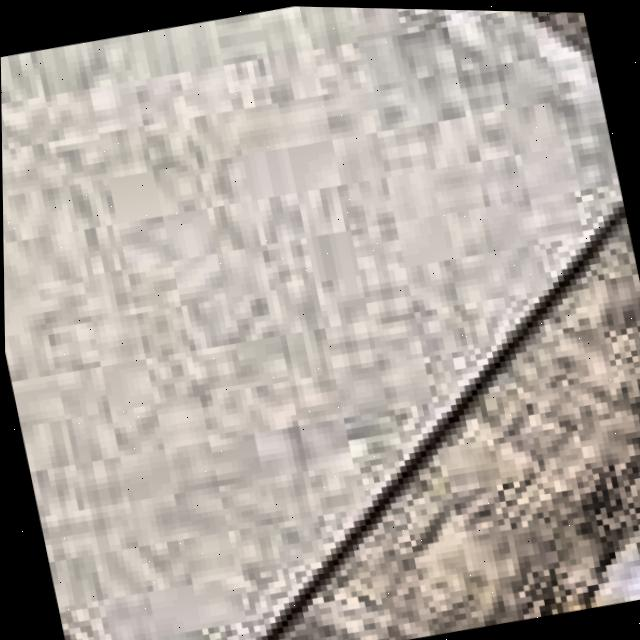paper: (1, 5, 640, 640)
